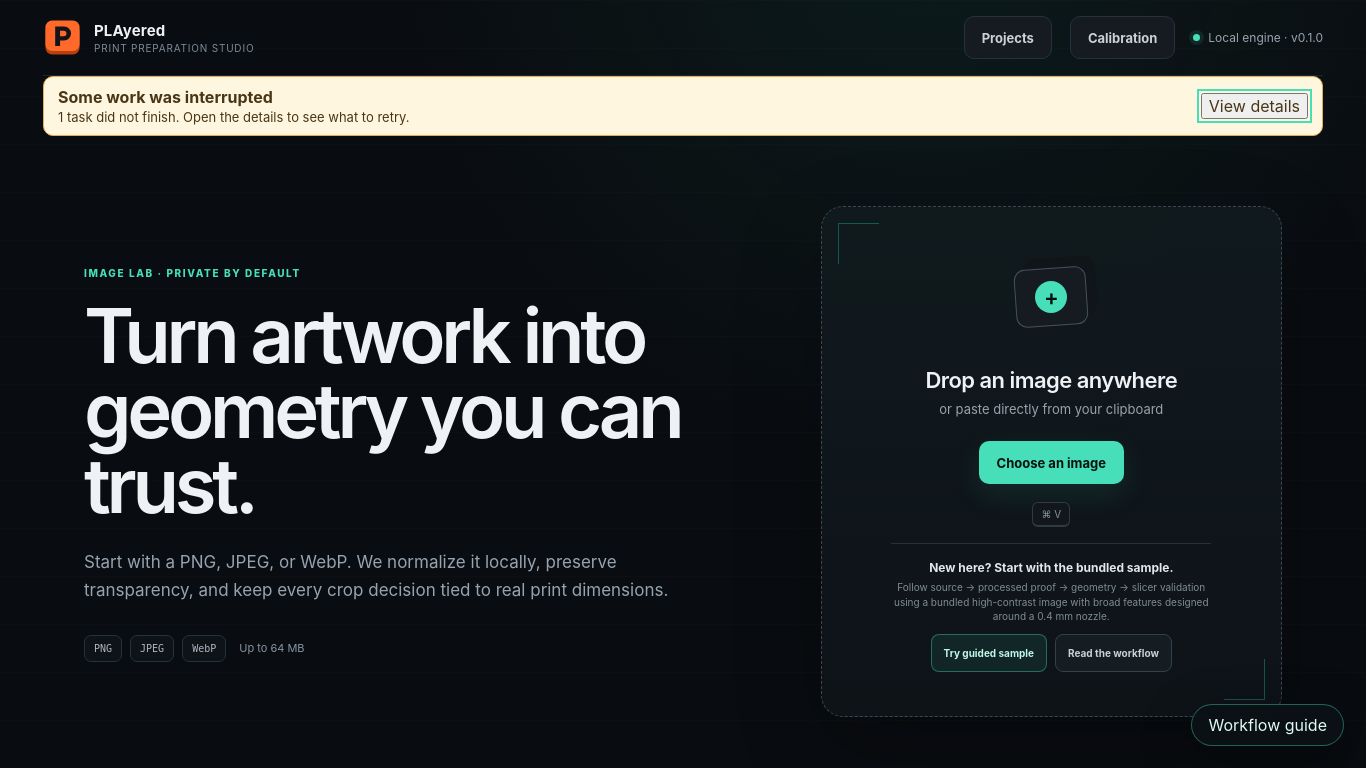
Test: Image Lab app › makes startup recovery modal, focus-restoring, and cleanup read-only
This screenshot has width=1366, height=768.
Click the button "View details" at (1254, 106), box [1201,93,1308,119]
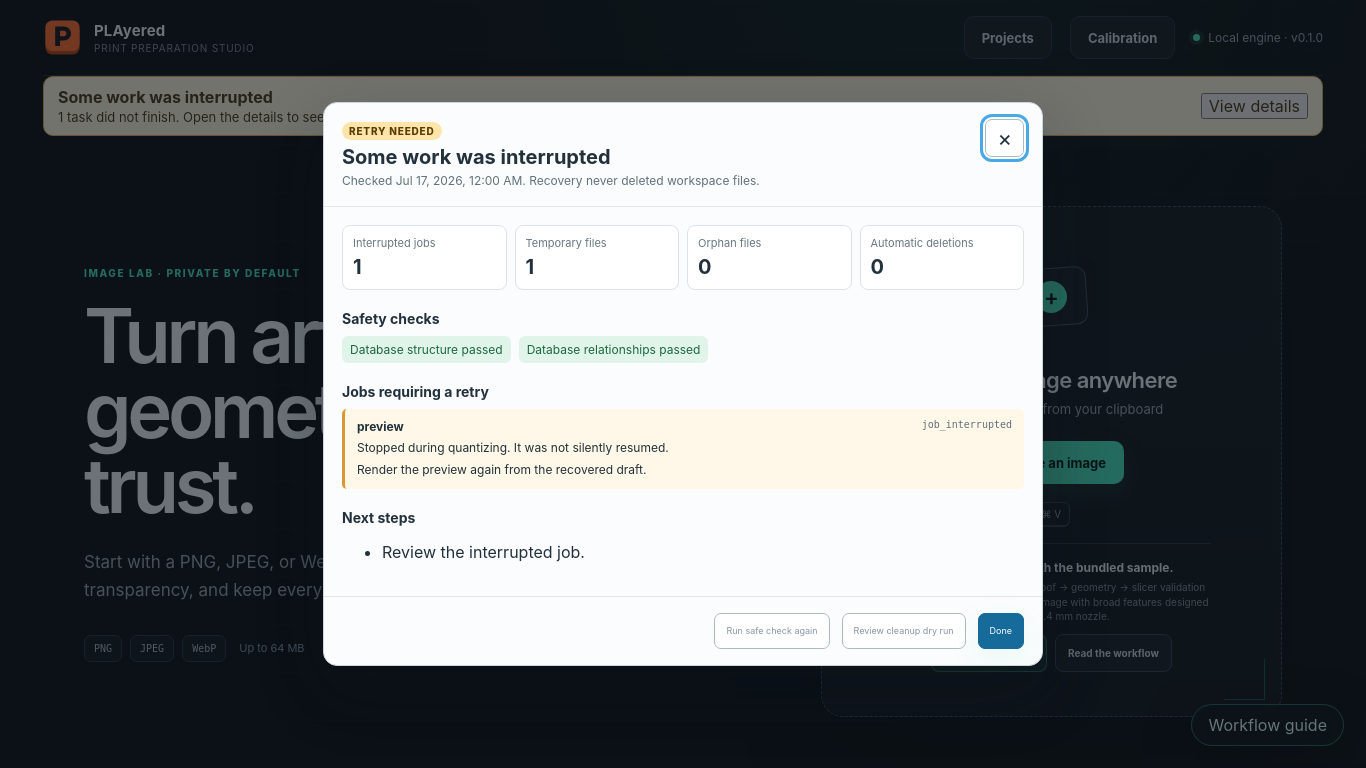
Click the button "Review cleanup dry run" at (904, 631), box [842,613,966,649]
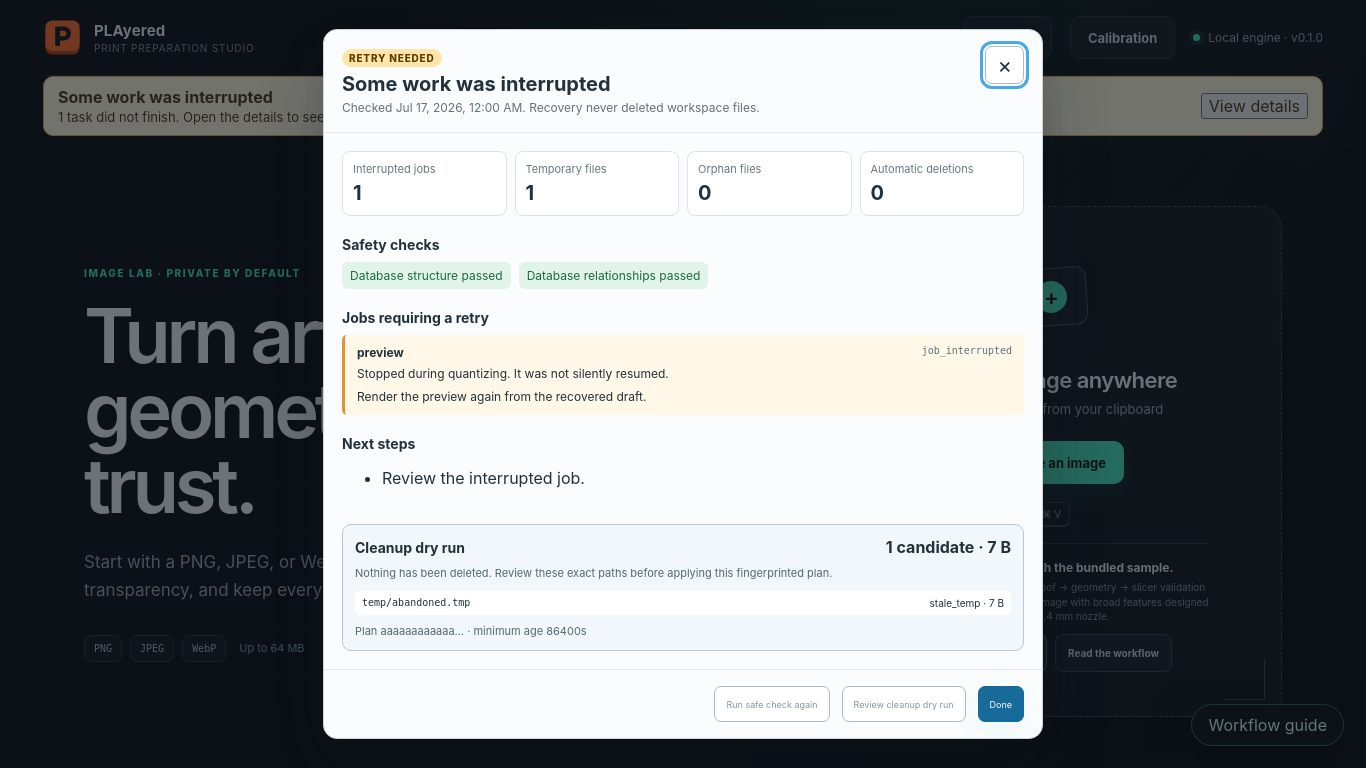
Now the heading "Cleanup dry run" is shown, box [355,539,465,556]
Now the dialog "Some work was interrupted" shows "Nothing has been deleted", box [355,566,832,580]
Now the dialog "Some work was interrupted" shows "temp/abandoned.tmp", box [362,597,470,608]
Press Escape in the dialog "Some work was interrupted", box [323,29,1043,739]
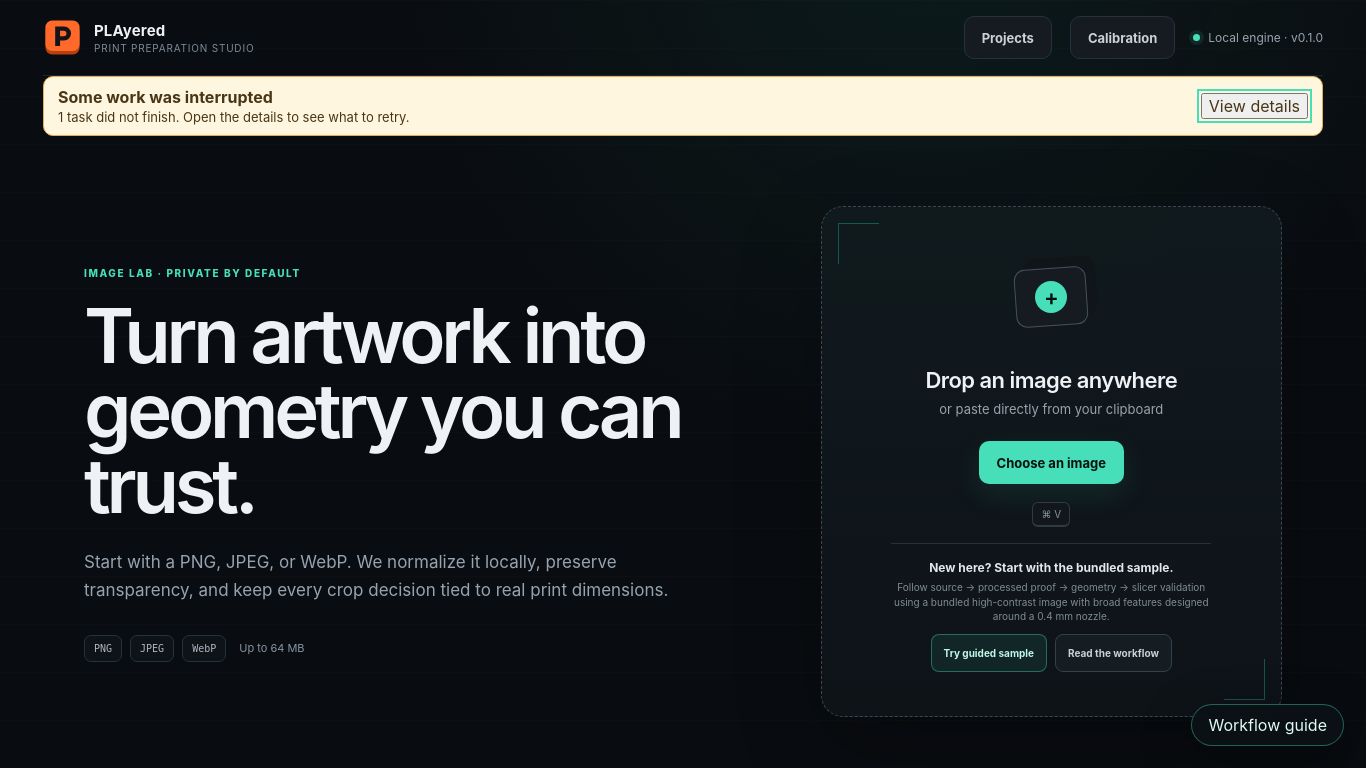
Now the dialog is gone
